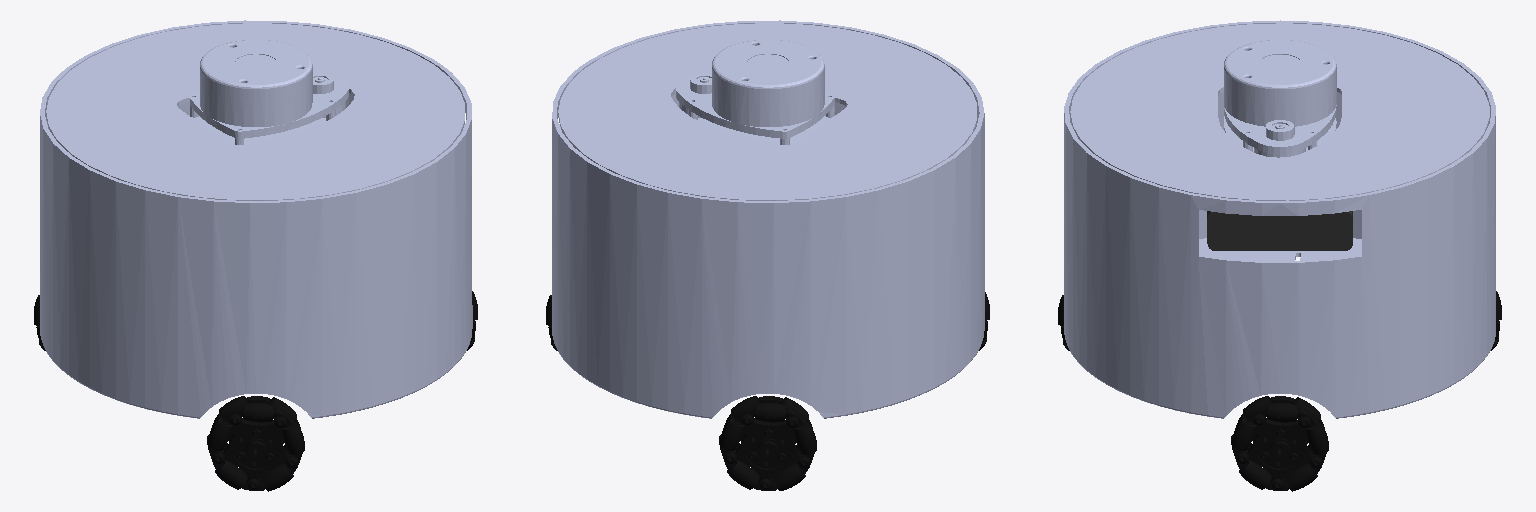
robot.urdf — auto_robot:
<?xml version="1.0" ?>
<!-- =================================================================================== -->
<!-- |    This document was autogenerated by xacro from robot.urdf.xacro               | -->
<!-- |    EDITING THIS FILE BY HAND IS NOT RECOMMENDED                                 | -->
<!-- =================================================================================== -->
<robot name="auto_robot">
  <link name="base_link">
    <inertial>
      <origin rpy="0 0 0" xyz="-0.00177767886836495 -7.08145711406941E-05 0.0345244109350669"/>
      <mass value="0.749591825708612"/>
      <inertia ixx="0.00560242940522896" ixy="-3.10886247756778E-06" ixz="7.02379711896478E-05" iyy="0.00543989398233584" iyz="-2.42126647279533E-17" izz="0.00951025265754031"/>
    </inertial>
    <visual>
      <origin rpy="0 0 0" xyz="0 0 0"/>
      <geometry>
        <mesh filename="package://auto_robot/meshes/base_link.STL"/>
      </geometry>
      <material name="body_color">
        <color rgba="0.792 0.819 0.933 1"/>
      </material>
    </visual>
    <collision>
      <origin rpy="0 0 0" xyz="0 0 0.05"/>
      <geometry>
        <cylinder length="0.10" radius="0.13"/>
      </geometry>
    </collision>
  </link>
  <link name="wheel_1">
    <inertial>
      <origin rpy="0 0 0" xyz="1.0863E-06 -2.2552E-06 0.0075339"/>
      <mass value="0.039266"/>
      <inertia ixx="3.5298E-06" ixy="1.754E-10" ixz="1.4711E-10" iyy="3.5298E-06" iyz="-1.6617E-10" izz="5.3943E-06"/>
    </inertial>
    <visual>
      <origin rpy="0 0 0" xyz="0 0 0"/>
      <geometry>
        <mesh filename="package://auto_robot/meshes/wheel_1.STL"/>
      </geometry>
      <material name="wheel_color">
        <color rgba="0.1 0.1 0.1 1"/>
      </material>
    </visual>
    <collision>
      <origin rpy="0 0 0" xyz="0 0 0"/>
      <geometry>
        <cylinder length="0.03" radius="0.0325"/>
      </geometry>
    </collision>
  </link>
  <joint name="joint_1" type="continuous">
    <origin rpy="1.5708 0 1.5708" xyz="0.12368 -0.00013859 -0.019"/>
    <parent link="base_link"/>
    <child link="wheel_1"/>
    <axis xyz="0 0 1"/>
  </joint>
  <link name="wheel_2">
    <inertial>
      <origin rpy="0 0 0" xyz="1.0862E-06 -2.255E-06 0.0075339"/>
      <mass value="0.039266"/>
      <inertia ixx="3.5297E-06" ixy="3.9609E-11" ixz="1.471E-10" iyy="3.5297E-06" iyz="-1.6617E-10" izz="5.3942E-06"/>
    </inertial>
    <visual>
      <origin rpy="0 0 0" xyz="0 0 0"/>
      <geometry>
        <mesh filename="package://auto_robot/meshes/wheel_2.STL"/>
      </geometry>
      <material name="wheel_color">
        <color rgba="0.1 0.1 0.1 1"/>
      </material>
    </visual>
    <collision>
      <origin rpy="0 0 0" xyz="0 0 0"/>
      <geometry>
        <cylinder length="0.03" radius="0.0325"/>
      </geometry>
    </collision>
  </link>
  <joint name="joint_2" type="continuous">
    <origin rpy="1.5708 0 -2.618" xyz="-0.062025 0.10707 -0.019"/>
    <parent link="base_link"/>
    <child link="wheel_2"/>
    <axis xyz="0 0 1"/>
  </joint>
  <link name="wheel_3">
    <inertial>
      <origin rpy="0 0 0" xyz="1.0862E-06 -2.2551E-06 0.0075339"/>
      <mass value="0.039266"/>
      <inertia ixx="3.5297E-06" ixy="6.0263E-11" ixz="1.471E-10" iyy="3.5296E-06" iyz="-1.6618E-10" izz="5.3941E-06"/>
    </inertial>
    <visual>
      <origin rpy="0 0 0" xyz="0 0 0"/>
      <geometry>
        <mesh filename="package://auto_robot/meshes/wheel_3.STL"/>
      </geometry>
      <material name="wheel_color">
        <color rgba="0.1 0.1 0.1 1"/>
      </material>
    </visual>
    <collision>
      <origin rpy="0 0 0" xyz="0 0 0"/>
      <geometry>
        <cylinder length="0.03" radius="0.0325"/>
      </geometry>
    </collision>
  </link>
  <joint name="joint_3" type="continuous">
    <origin rpy="1.5708 0 -0.5236" xyz="-0.062024 -0.10735 -0.019"/>
    <parent link="base_link"/>
    <child link="wheel_3"/>
    <axis xyz="0 0 1"/>
  </joint>
  <link name="robot_footprint"/>
  <joint name="dummy_joint" type="fixed">
    <parent link="robot_footprint"/>
    <child link="base_link"/>
    <origin rpy="0 0 0" xyz="0 0 0.0515"/>
  </joint>
  <link name="lidar">
    <inertial>
      <origin rpy="0 0 0" xyz="0.0067682 -0.00020713 -0.022521"/>
      <mass value="0.17118"/>
      <inertia ixx="7.9535E-05" ixy="-1.035E-07" ixz="2.0281E-05" iyy="0.00012426" iyz="-3.9476E-07" izz="0.00014191"/>
    </inertial>
    <visual>
      <origin rpy="0 0 0" xyz="0 0 0"/>
      <geometry>
        <mesh filename="package://auto_robot/meshes/lidar.STL"/>
      </geometry>
      <material name="lidar_color">
        <color rgba="0.79216 0.81961 0.93333 1"/>
      </material>
    </visual>
    <collision>
      <origin rpy="0 0 0" xyz="0 0 0"/>
      <geometry>
        <mesh filename="package://auto_robot/meshes/lidar.STL"/>
      </geometry>
    </collision>
  </link>
  <joint name="lidar_joint" type="fixed">
    <origin rpy="0 0 0" xyz="-0.00012313 -2.5346E-05 0.1797"/>
    <parent link="base_link"/>
    <child link="lidar"/>
    <axis xyz="0 0 0"/>
  </joint>
  <link name="oak_camera">
    <inertial>
      <origin rpy="0 0 0" xyz="-0.0086 -5.8579E-18 0"/>
      <mass value="0.041718"/>
      <inertia ixx="3.0322E-05" ixy="-8.0273E-23" ixz="-4.5515E-23" iyy="3.5543E-06" iyz="-4.7563E-21" izz="2.8825E-05"/>
    </inertial>
    <visual>
      <origin rpy="0 0 0" xyz="0 0 0"/>
      <geometry>
        <mesh filename="package://auto_robot/meshes/oak_camera.STL"/>
      </geometry>
      <material name="camera_color">
        <color rgba="0.25098 0.25098 0.25098 1"/>
      </material>
    </visual>
    <collision>
      <origin rpy="0 0 0" xyz="0 0 0"/>
      <geometry>
        <mesh filename="package://auto_robot/meshes/oak_camera.STL"/>
      </geometry>
    </collision>
  </link>
  <joint name="oak_joint" type="fixed">
    <origin rpy="0 0 0" xyz="0.12008 -0.00013908 0.12046"/>
    <parent link="base_link"/>
    <child link="oak_camera"/>
    <axis xyz="0 0 0"/>
  </joint>
  <link name="camera_link"/>
  <joint name="camera_link_joint" type="fixed">
    <parent link="oak_camera"/>
    <child link="camera_link"/>
    <origin rpy="0 0 0" xyz="0 0 0"/>
  </joint>
  <link name="camera_link_optical"/>
  <joint name="camera_optical_joint" type="fixed">
    <parent link="camera_link"/>
    <child link="camera_link_optical"/>
    <origin rpy="-1.5707963267948966 0 -1.5707963267948966" xyz="0 0 0"/>
  </joint>
  <link name="imu_link">
    <visual>
      <geometry>
        <box size="0.0001 0.0001 0.0001"/>
      </geometry>
      <material name="imu_color">
        <color rgba="1.0 0.0 0.0 1"/>
      </material>
    </visual>
    <collision>
      <geometry>
        <box size="0.0001 0.0001 0.0001"/>
      </geometry>
    </collision>
    <inertial>
      <mass value="0.01"/>
      <inertia ixx="0.0001" ixy="0" ixz="0" iyy="0.0001" iyz="0" izz="0.0001"/>
    </inertial>
  </link>
  <joint name="imu_joint" type="fixed">
    <parent link="base_link"/>
    <child link="imu_link"/>
    <origin rpy="0 0 0" xyz="0 0 0"/>
  </joint>
  <ros2_control name="GazeboSystem" type="system">
    <hardware>
      <plugin>gazebo_ros2_control/GazeboSystem</plugin>
    </hardware>
    <joint name="joint_1">
      <command_interface name="velocity"/>
      <state_interface name="velocity"/>
      <state_interface name="position"/>
    </joint>
    <joint name="joint_2">
      <command_interface name="velocity"/>
      <state_interface name="velocity"/>
      <state_interface name="position"/>
    </joint>
    <joint name="joint_3">
      <command_interface name="velocity"/>
      <state_interface name="velocity"/>
      <state_interface name="position"/>
    </joint>
  </ros2_control>
  <gazebo>
    <plugin filename="libgazebo_ros2_control.so" name="gazebo_ros2_control">
      <parameters>[local-path]/ausrabot_ws/install/auto_robot/share/auto_robot/config/robot_controller.yaml</parameters>
      <robot_param>robot_description</robot_param>
      <robot_param_node>robot_state_publisher</robot_param_node>
    </plugin>
  </gazebo>
  <gazebo reference="base_link">
    <material>Gazebo/White</material>
    <mu1>0.2</mu1>
    <mu2>0.2</mu2>
  </gazebo>
  <gazebo reference="wheel_1">
    <material>Gazebo/DarkGrey</material>
    <mu1>1.0</mu1>
    <mu2>0.001</mu2>
    <fdir1>1 0 0</fdir1>
    <kp>1000000.0</kp>
    <kd>100.0</kd>
    <minDepth>0.001</minDepth>
  </gazebo>
  <gazebo reference="wheel_2">
    <material>Gazebo/DarkGrey</material>
    <mu1>1.0</mu1>
    <mu2>0.001</mu2>
    <fdir1>1 0 0</fdir1>
    <kp>1000000.0</kp>
    <kd>100.0</kd>
    <minDepth>0.001</minDepth>
  </gazebo>
  <gazebo reference="wheel_3">
    <material>Gazebo/DarkGrey</material>
    <mu1>1.0</mu1>
    <mu2>0.001</mu2>
    <fdir1>1 0 0</fdir1>
    <kp>1000000.0</kp>
    <kd>100.0</kd>
    <minDepth>0.001</minDepth>
  </gazebo>
  <gazebo reference="lidar">
    <material>Gazebo/White</material>
  </gazebo>
  <gazebo reference="oak_camera">
    <material>Gazebo/DarkGrey</material>
  </gazebo>
  <gazebo reference="lidar">
    <sensor name="rplidar_a1" type="ray">
      <pose>0 0 0 0 0 0</pose>
      <always_on>true</always_on>
      <visualize>true</visualize>
      <update_rate>5.5</update_rate>
      <ray>
        <scan>
          <horizontal>
            <samples>360</samples>
            <resolution>1</resolution>
            <min_angle>-3.14159265</min_angle>
            <max_angle>3.14159265</max_angle>
          </horizontal>
        </scan>
        <range>
          <min>0.15</min>
          <max>12.0</max>
          <resolution>0.01</resolution>
        </range>
        <noise>
          <type>gaussian</type>
          <mean>0.0</mean>
          <stddev>0.01</stddev>
        </noise>
      </ray>
      <plugin filename="libgazebo_ros_ray_sensor.so" name="gazebo_ros_lidar">
        <ros>
          <remapping>~/out:=scan</remapping>
        </ros>
        <output_type>sensor_msgs/LaserScan</output_type>
        <frame_name>lidar</frame_name>
      </plugin>
    </sensor>
  </gazebo>
  <gazebo reference="imu_link">
    <sensor name="imu_sensor" type="imu">
      <always_on>true</always_on>
      <update_rate>100</update_rate>
      <visualize>true</visualize>
      <plugin filename="libgazebo_ros_imu_sensor.so" name="gazebo_ros_imu">
        <ros>
          <remapping>~/out:=imu</remapping>
        </ros>
        <frame_name>imu_link</frame_name>
        <initial_orientation_as_reference>false</initial_orientation_as_reference>
      </plugin>
      <imu>
        <angular_velocity>
          <x>
            <noise type="gaussian">
              <mean>0.0</mean>
              <stddev>0.0002</stddev>
            </noise>
          </x>
          <y>
            <noise type="gaussian">
              <mean>0.0</mean>
              <stddev>0.0002</stddev>
            </noise>
          </y>
          <z>
            <noise type="gaussian">
              <mean>0.0</mean>
              <stddev>0.0002</stddev>
            </noise>
          </z>
        </angular_velocity>
        <linear_acceleration>
          <x>
            <noise type="gaussian">
              <mean>0.0</mean>
              <stddev>0.017</stddev>
            </noise>
          </x>
          <y>
            <noise type="gaussian">
              <mean>0.0</mean>
              <stddev>0.017</stddev>
            </noise>
          </y>
          <z>
            <noise type="gaussian">
              <mean>0.0</mean>
              <stddev>0.017</stddev>
            </noise>
          </z>
        </linear_acceleration>
      </imu>
    </sensor>
  </gazebo>
  <gazebo reference="camera_link">
    <sensor name="oak_d_lite_camera" type="camera">
      <always_on>true</always_on>
      <update_rate>30.0</update_rate>
      <visualize>false</visualize>
      <camera name="oak_d_lite">
        <horizontal_fov>1.2043</horizontal_fov>
        <image>
          <width>640</width>
          <height>480</height>
          <format>B8G8R8</format>
        </image>
        <clip>
          <near>0.2</near>
          <far>19.1</far>
        </clip>
        <noise>
          <type>gaussian</type>
          <mean>0.0</mean>
          <stddev>0.005</stddev>
        </noise>
      </camera>
      <plugin filename="libgazebo_ros_camera.so" name="gazebo_ros_camera">
        <ros>
          <remapping>~/image_raw:=camera/image_raw</remapping>
          <remapping>~/camera_info:=camera/camera_info</remapping>
        </ros>
        <frame_name>camera_link_optical</frame_name>
      </plugin>
    </sensor>
  </gazebo>
  <gazebo reference="camera_link">
    <sensor name="oak_d_lite_depth" type="depth">
      <always_on>true</always_on>
      <update_rate>30.0</update_rate>
      <visualize>false</visualize>
      <camera name="oak_d_lite_depth">
        <horizontal_fov>1.2043</horizontal_fov>
        <image>
          <width>640</width>
          <height>480</height>
          <format>B8G8R8</format>
        </image>
        <clip>
          <near>0.1</near>
          <far>100.0</far>
        </clip>
        <noise>
          <type>gaussian</type>
          <mean>0.0</mean>
          <stddev>0.005</stddev>
        </noise>
      </camera>
      <plugin filename="libgazebo_ros_camera.so" name="gazebo_ros_depth_camera">
        <ros>
          <remapping>~/image_raw:=camera/depth/image_raw</remapping>
          <remapping>~/camera_info:=camera/depth/camera_info</remapping>
          <remapping>~/points:=camera/depth/points</remapping>
        </ros>
        <frame_name>camera_link_optical</frame_name>
        <min_depth>0.1</min_depth>
        <max_depth>100.0</max_depth>
      </plugin>
    </sensor>
  </gazebo>
</robot>

--- Facts derived from the render (not from the file) ---
3 views of the same robot in one strip: view 1: azimuth 30°, elevation 25°; view 2: azimuth 150°, elevation 25°; view 3: azimuth 270°, elevation 25° (orthographic).
Model auto_robot with 10 links and 9 joints (3 continuous, 6 fixed), rooted at robot_footprint, posed every joint at zero.
Visible links, largest first — view 1: base_link, lidar, wheel_3; view 2: base_link, lidar, wheel_2; view 3: base_link, lidar, wheel_1, oak_camera.
Link boxes in pixels (bbox=[...]): base_link: bbox=[40, 20, 472, 418]; lidar: bbox=[190, 40, 348, 144]; wheel_3: bbox=[207, 396, 304, 491]; base_link: bbox=[552, 20, 984, 418]; lidar: bbox=[676, 40, 834, 144]; wheel_2: bbox=[719, 396, 816, 490]; base_link: bbox=[1064, 20, 1495, 418]; lidar: bbox=[1224, 40, 1336, 157]; wheel_1: bbox=[1231, 396, 1328, 491]; oak_camera: bbox=[1207, 211, 1352, 250].
Size in the robot's own frame: 0.2789 by 0.2755 by 0.229 metres.
Meshes: 6 distinct files referenced, 6 mesh visuals loaded (6 binary STL).